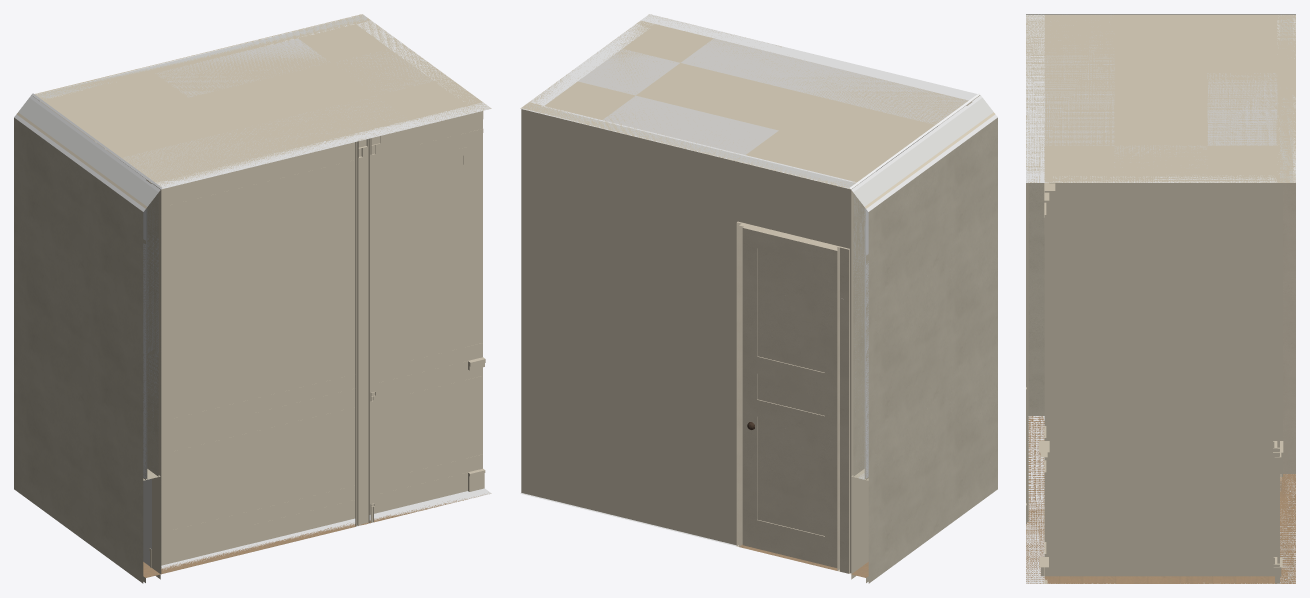
The model's file is upstairs-closet-west-6aaabbf33fb8.glb.
3 views of the same model, side by side, from view 1: azimuth 30°, elevation 25°; view 2: azimuth 150°, elevation 25°; view 3: azimuth 270°, elevation 25° (orthographic). The views are drawn at different scales.
Visible parts, largest first — view 1: upstairs-closet-west-6e269356ae8bfd70, upstairs-closet-west-9d91b47435c6fb33, upstairs-closet-west-312b4ac1be39223d, upstairs-closet-west-33ee0b466567e5f0, upstairs-closet-west-ed5fdcd3ee9c0dd5, upstairs-closet-west-39b94aca90fa4b53, upstairs-closet-west-3a4d9d62ecd7be1c, upstairs-closet-west-414385708a06acff, upstairs-closet-west-06754748489735a0, upstairs-closet-west-6a4a24524a86ae48, upstairs-closet-west-b63ee86b16afd4c0, upstairs-closet-west-1e3385c37a14aaf6 (+9 smaller); view 2: upstairs-closet-west-eb02897c2e79e2b1, upstairs-closet-west-312b4ac1be39223d, upstairs-closet-west-7406100458e293ce, upstairs-closet-west-9d91b47435c6fb33, upstairs-closet-west-33ee0b466567e5f0, upstairs-closet-west-242740a07d2af182, upstairs-closet-west-6a4a24524a86ae48, upstairs-closet-west-3a4d9d62ecd7be1c, upstairs-closet-west-39b94aca90fa4b53, upstairs-closet-west-442e5a19ed849720, upstairs-closet-west-4fe731a8ba1c3bde, upstairs-closet-west-6e269356ae8bfd70 (+3 smaller); view 3: upstairs-closet-west-af27112094daa34f, upstairs-closet-west-9d91b47435c6fb33, upstairs-closet-west-6e269356ae8bfd70, upstairs-closet-west-2575515a05775d9e, upstairs-closet-west-6a4a24524a86ae48, upstairs-closet-west-442e5a19ed849720, upstairs-closet-west-242740a07d2af182, upstairs-closet-west-7f77ce4796f35946, upstairs-closet-west-eb02897c2e79e2b1, upstairs-closet-west-ed5fdcd3ee9c0dd5, upstairs-closet-west-72fcfe59ea86eabd.
Boxes of the visible parts, box(x1,y1,x2,y2) form: upstairs-closet-west-6e269356ae8bfd70: box(152, 102, 491, 573); upstairs-closet-west-9d91b47435c6fb33: box(31, 14, 491, 188); upstairs-closet-west-312b4ac1be39223d: box(14, 114, 145, 480); upstairs-closet-west-33ee0b466567e5f0: box(14, 386, 160, 583); upstairs-closet-west-ed5fdcd3ee9c0dd5: box(355, 138, 369, 526); upstairs-closet-west-39b94aca90fa4b53: box(18, 98, 158, 479); upstairs-closet-west-3a4d9d62ecd7be1c: box(29, 95, 160, 476); upstairs-closet-west-414385708a06acff: box(149, 469, 478, 567); upstairs-closet-west-06754748489735a0: box(165, 160, 355, 424); upstairs-closet-west-6a4a24524a86ae48: box(155, 38, 329, 97); upstairs-closet-west-b63ee86b16afd4c0: box(165, 407, 355, 535); upstairs-closet-west-1e3385c37a14aaf6: box(249, 358, 479, 422); upstairs-closet-west-eb02897c2e79e2b1: box(520, 103, 859, 574); upstairs-closet-west-312b4ac1be39223d: box(866, 114, 997, 480); upstairs-closet-west-7406100458e293ce: box(742, 226, 837, 567); upstairs-closet-west-9d91b47435c6fb33: box(520, 14, 980, 189); upstairs-closet-west-33ee0b466567e5f0: box(851, 386, 997, 583); upstairs-closet-west-242740a07d2af182: box(681, 38, 971, 130); upstairs-closet-west-6a4a24524a86ae48: box(602, 95, 778, 154); upstairs-closet-west-3a4d9d62ecd7be1c: box(851, 95, 982, 476); upstairs-closet-west-39b94aca90fa4b53: box(853, 98, 993, 479); upstairs-closet-west-442e5a19ed849720: box(736, 221, 840, 571); upstairs-closet-west-4fe731a8ba1c3bde: box(840, 246, 849, 573); upstairs-closet-west-6e269356ae8bfd70: box(641, 14, 979, 100); upstairs-closet-west-af27112094daa34f: box(1044, 175, 1277, 583); upstairs-closet-west-9d91b47435c6fb33: box(1026, 14, 1295, 182); upstairs-closet-west-6e269356ae8bfd70: box(1026, 14, 1044, 583); upstairs-closet-west-2575515a05775d9e: box(1026, 416, 1295, 583); upstairs-closet-west-6a4a24524a86ae48: box(1207, 73, 1277, 145); upstairs-closet-west-442e5a19ed849720: box(1283, 183, 1295, 473); upstairs-closet-west-242740a07d2af182: box(1044, 21, 1114, 145); upstairs-closet-west-7f77ce4796f35946: box(1044, 215, 1277, 235); upstairs-closet-west-eb02897c2e79e2b1: box(1277, 15, 1295, 583); upstairs-closet-west-ed5fdcd3ee9c0dd5: box(1026, 183, 1028, 521); upstairs-closet-west-72fcfe59ea86eabd: box(1280, 183, 1282, 476).
Bounding box in the file's own units: 2.74 × 2.95 × 1.77.
21 materials, 3 textured.
